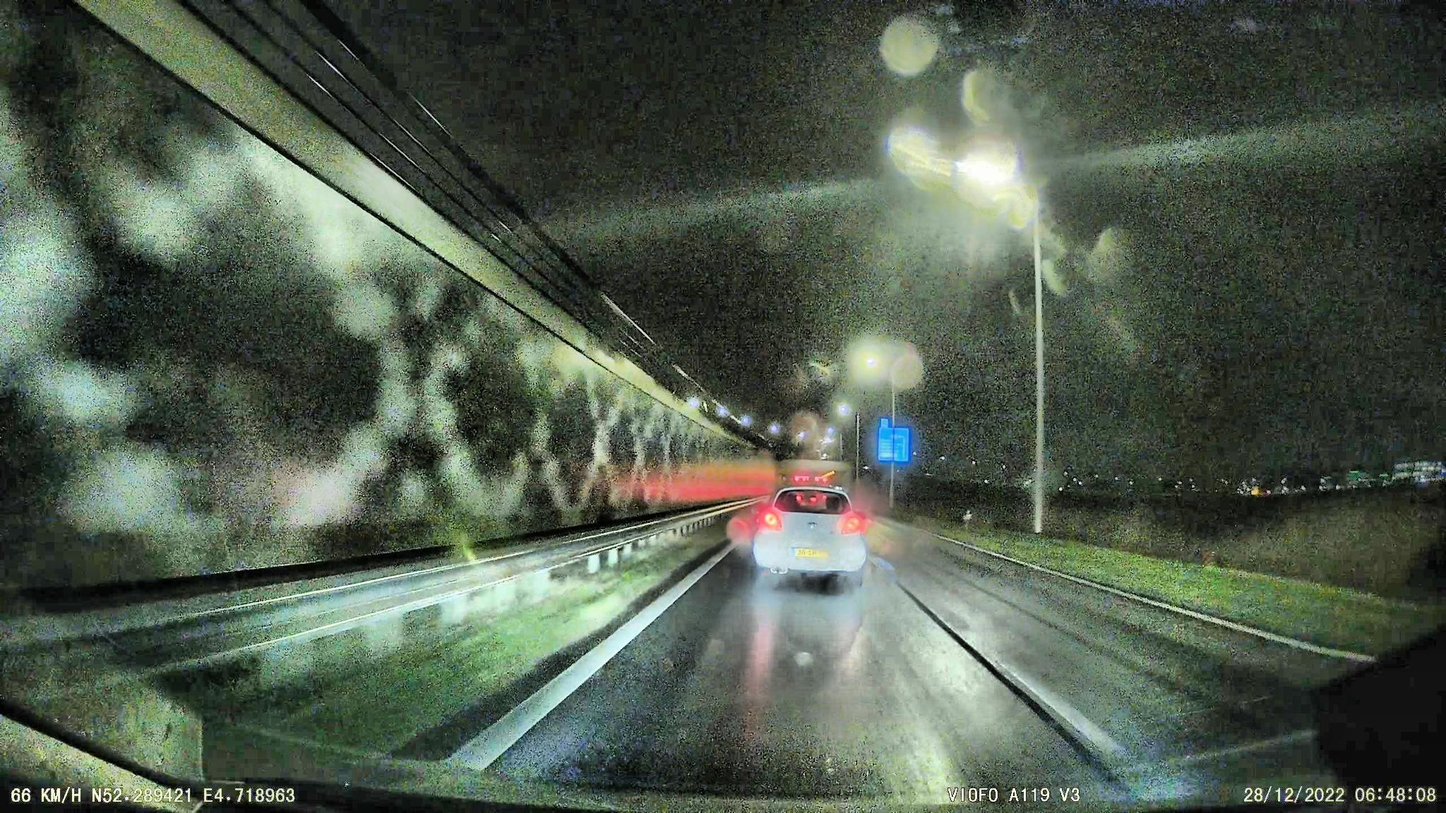Roads: (491, 529, 1379, 801)
